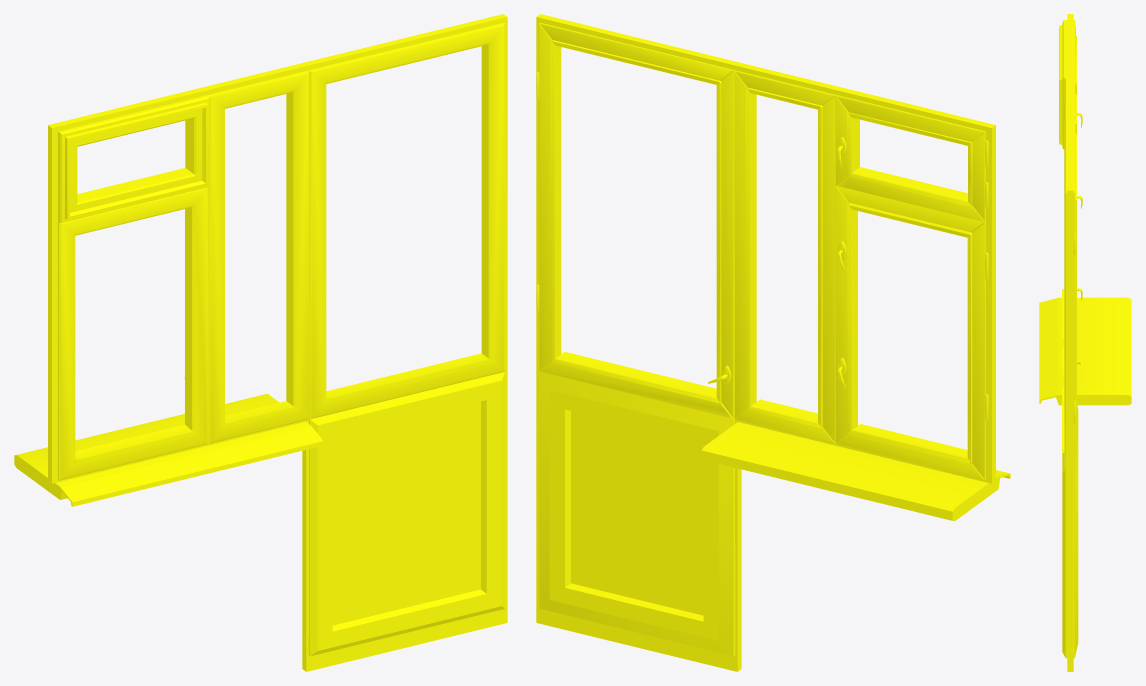
File: SM_BalconyDoorWindow01.glb
3 views of the same model, side by side, from view 1: azimuth 30°, elevation 25°; view 2: azimuth 150°, elevation 25°; view 3: azimuth 270°, elevation 25° (orthographic). The views are drawn at different scales.
Parts seen in each view (by area): view 1: SM_BalconyDoorWindow01_LOD0; view 2: SM_BalconyDoorWindow01_LOD0; view 3: SM_BalconyDoorWindow01_LOD0.
Boxes of the visible parts, box(x1,y1,x2,y2) form: SM_BalconyDoorWindow01_LOD0: box(14, 14, 507, 671); SM_BalconyDoorWindow01_LOD0: box(536, 14, 1010, 671); SM_BalconyDoorWindow01_LOD0: box(1039, 14, 1131, 671).
Bounding box in the file's own units: 1.81 × 2.3 × 0.3996.
Materials: 1 (1 with a texture image).
